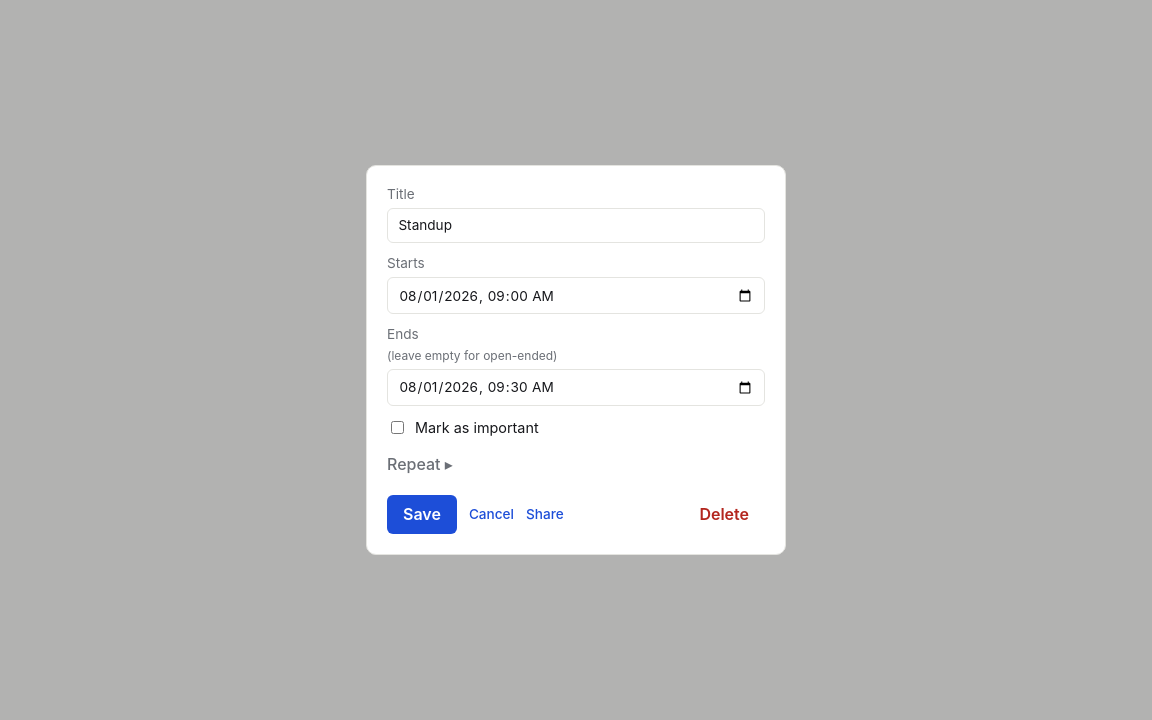
Scenario: EventEditPanel › requires a title
Clear the field labelled "Title": (576, 225) [387, 208, 765, 243]
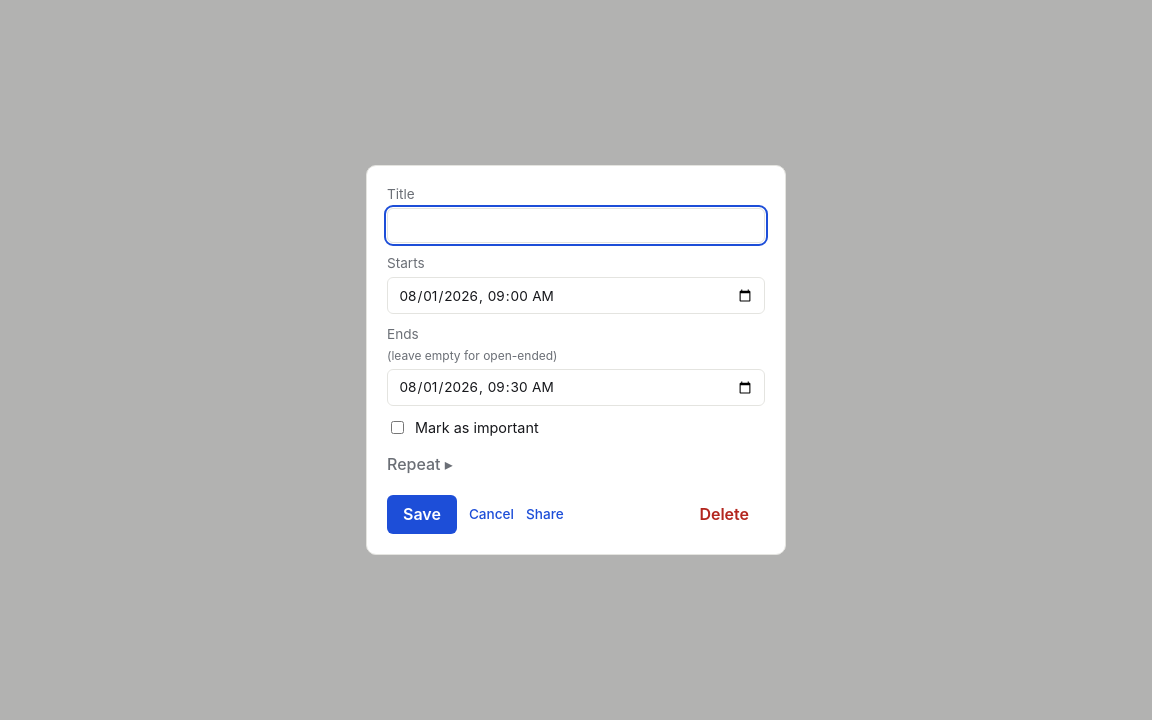
Click the button "Save": (422, 514) [387, 495, 457, 534]
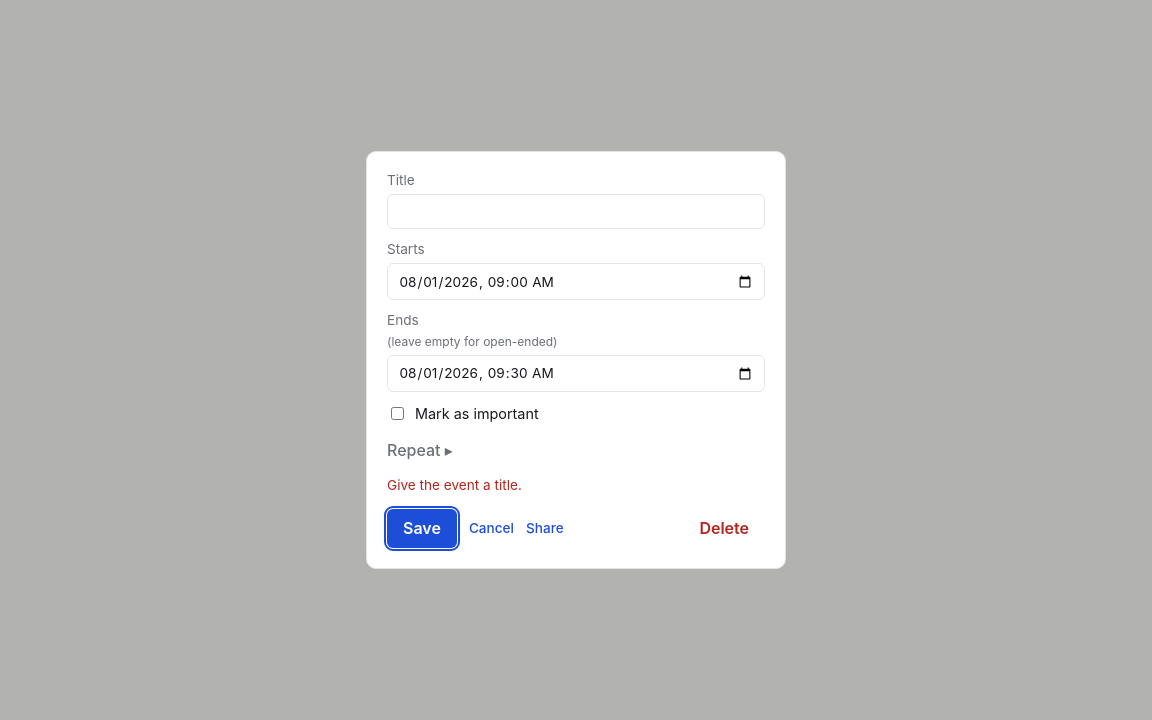
Expected: the message "Give the event a title." is shown, [387, 477, 522, 493]
